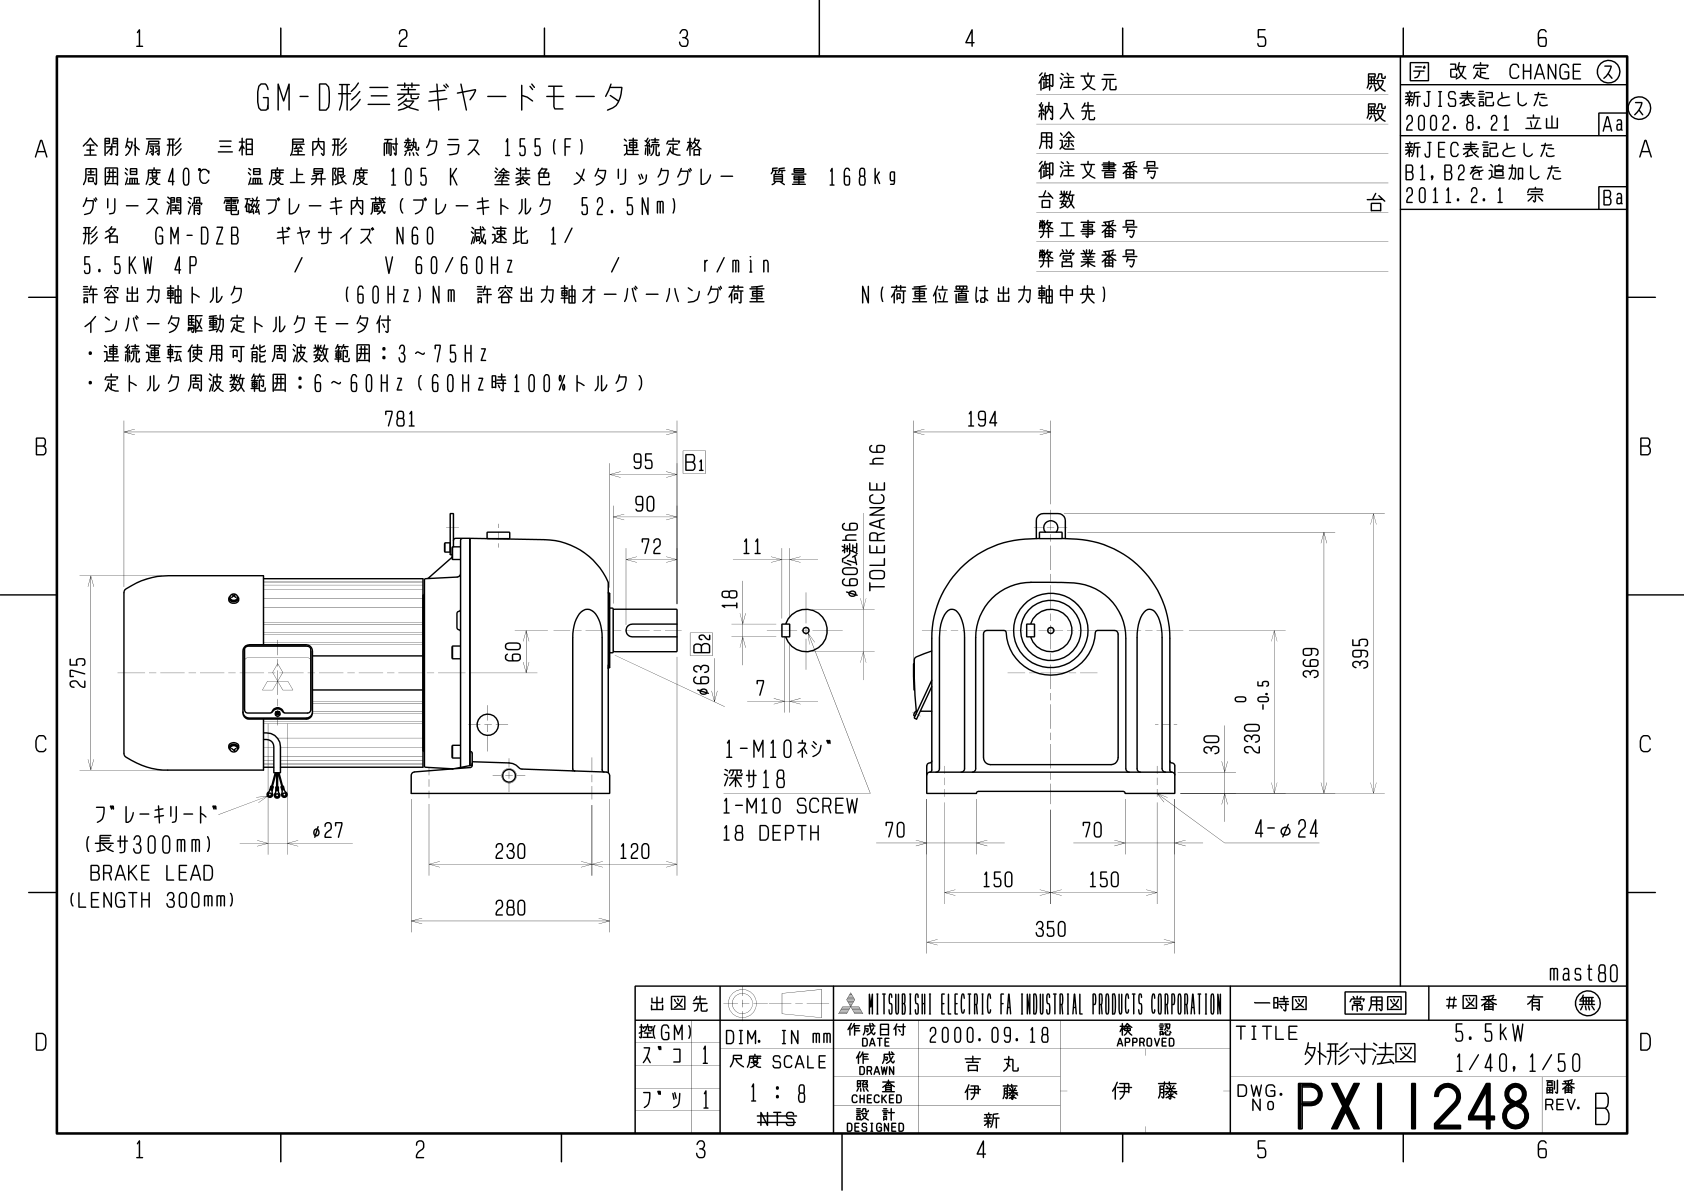GM_D_インバータ屋内_三相_脚: (1, 1, 1675, 1178)
